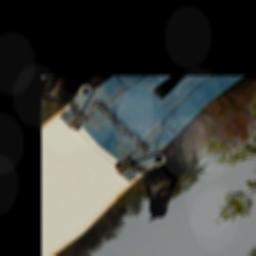Crow: (116, 138, 216, 227)
